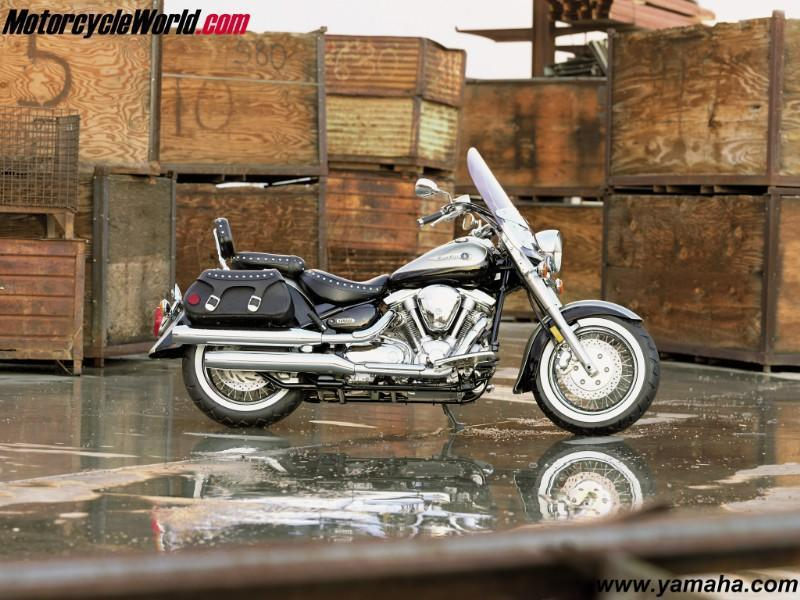motorcycle: (143, 144, 666, 444)
